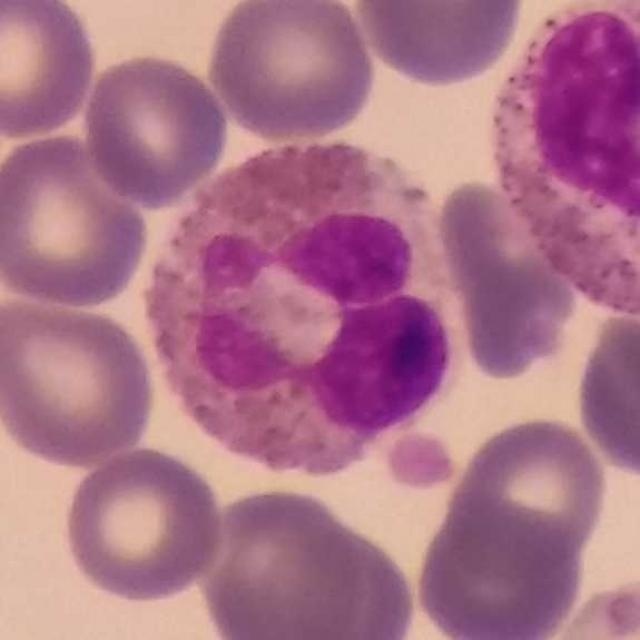eosino: (140, 128, 471, 479)
